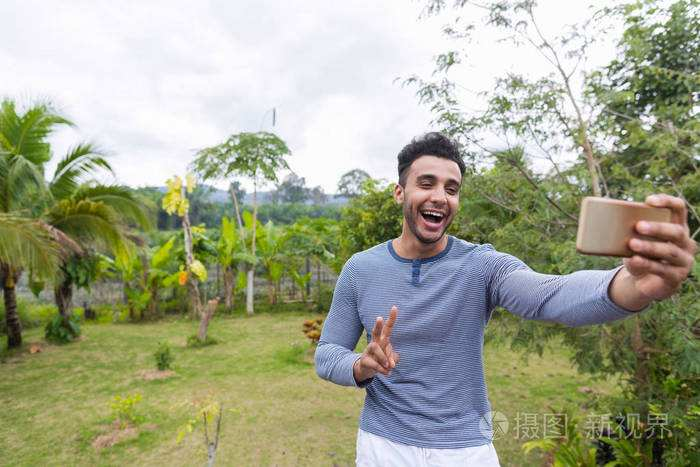no-phone: (359, 306, 400, 378)
taking photos: (575, 190, 696, 306)
